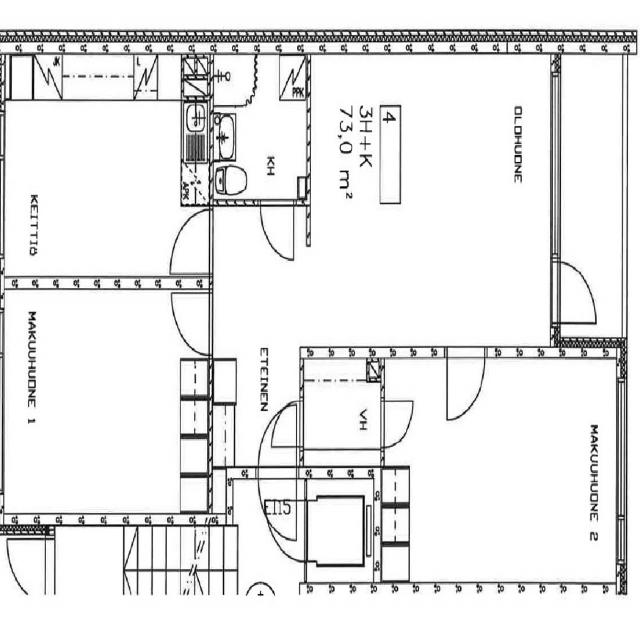door: (549, 262, 599, 323), (258, 466, 297, 540), (258, 405, 297, 478), (446, 346, 484, 420), (170, 210, 213, 272), (170, 293, 213, 354), (260, 199, 293, 260), (271, 401, 304, 447), (381, 400, 413, 447)
